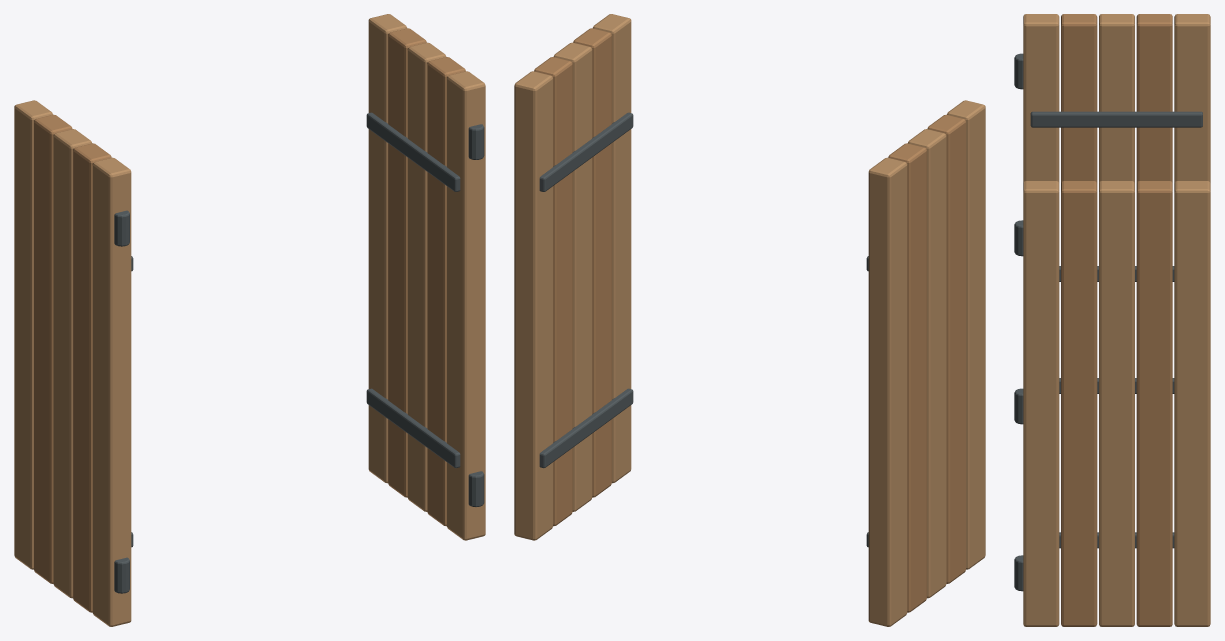
File: castle_gate_oak_pair.glb
3 renders of one model, left to right at view 1: azimuth 30°, elevation 25°; view 2: azimuth 150°, elevation 25°; view 3: azimuth 270°, elevation 25°, orthographic. The views are drawn at different scales.
Visible parts, largest first — view 1: castle_gate_oak_pair; view 2: castle_gate_oak_pair; view 3: castle_gate_oak_pair.
Part boxes in pixels (x1,y1,x2,y2): castle_gate_oak_pair: (14, 14, 485, 626); castle_gate_oak_pair: (514, 14, 985, 626); castle_gate_oak_pair: (1014, 14, 1210, 626).
Bounding box in the file's own units: 2 × 2.3 × 0.934.
